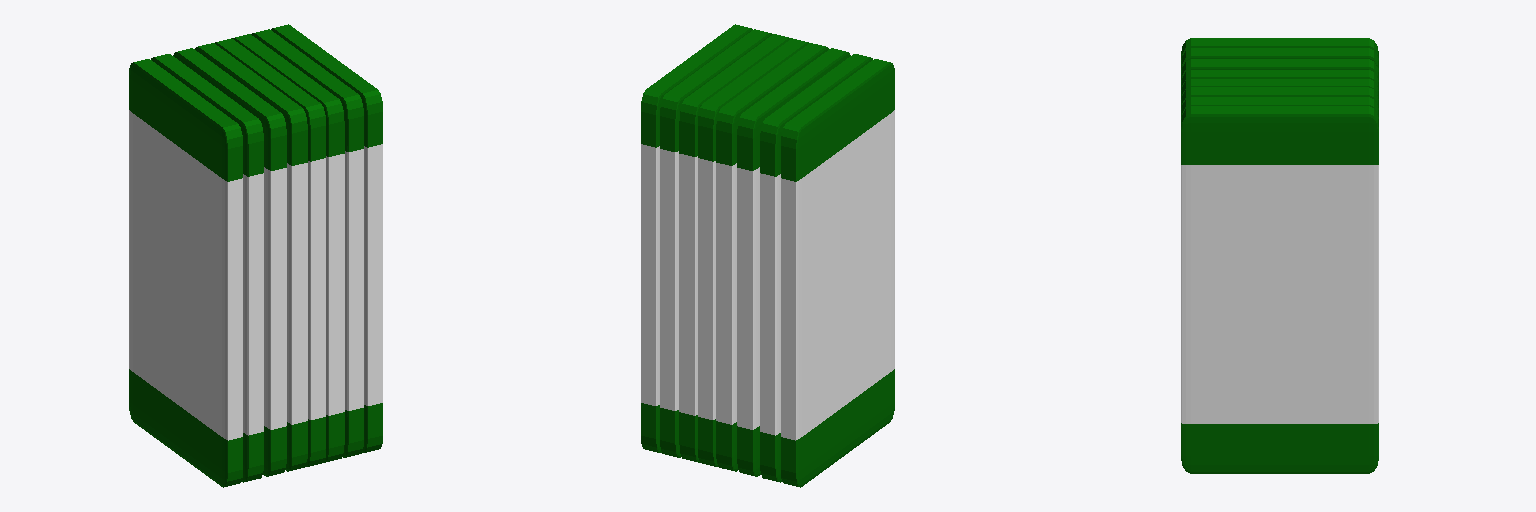
The picture shows the model from 3 angles: view 1: azimuth 30°, elevation 25°; view 2: azimuth 150°, elevation 25°; view 3: azimuth 270°, elevation 25°; orthographic projection.
Parts seen in each view (by area): view 1: Cube.023; view 2: Cube.023; view 3: Cube.023.
Boxes of the visible parts, box(x1,y1,x2,y2) form: Cube.023: box(129, 24, 382, 487); Cube.023: box(641, 24, 894, 487); Cube.023: box(1181, 38, 1378, 473).
Size of the model in its own units: 0.0914 by 0.2 by 0.1.
1 materials, 1 textured.